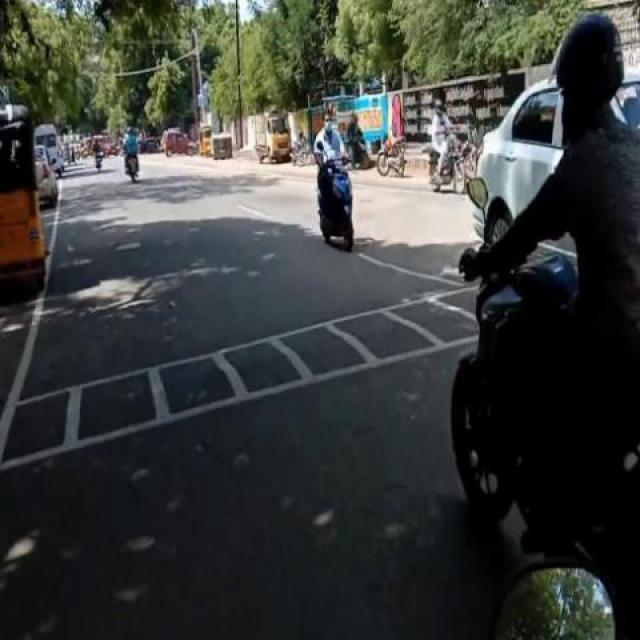Speed Bump: (0, 281, 452, 464)
